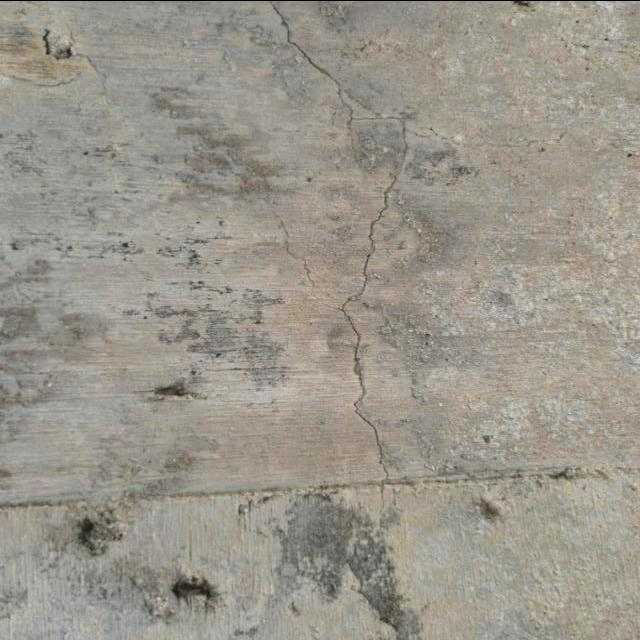SurfaceCrack: (221, 0, 429, 482)
